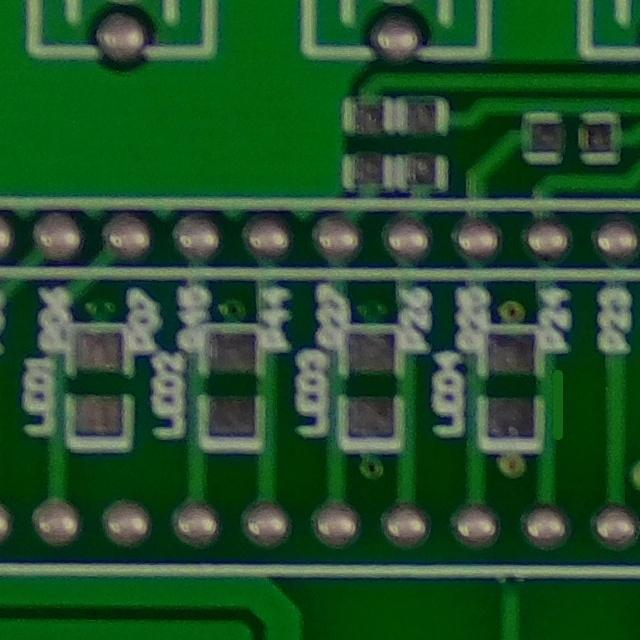spur: (524, 358, 584, 458)
